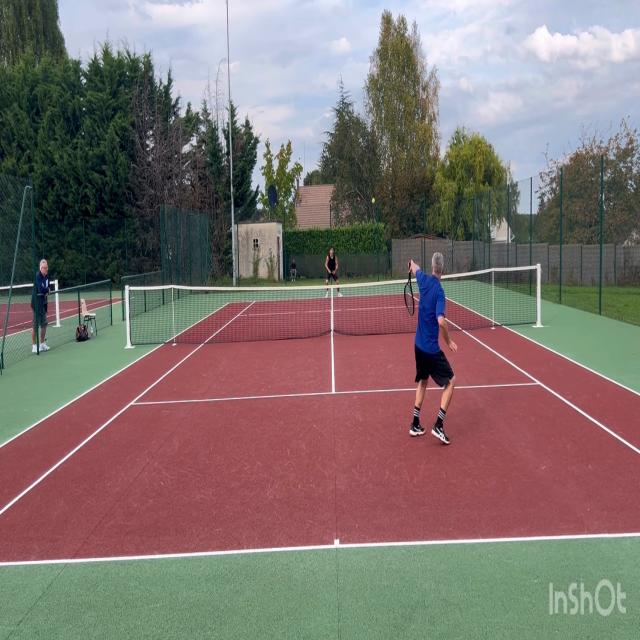ball: (372, 197, 376, 205)
